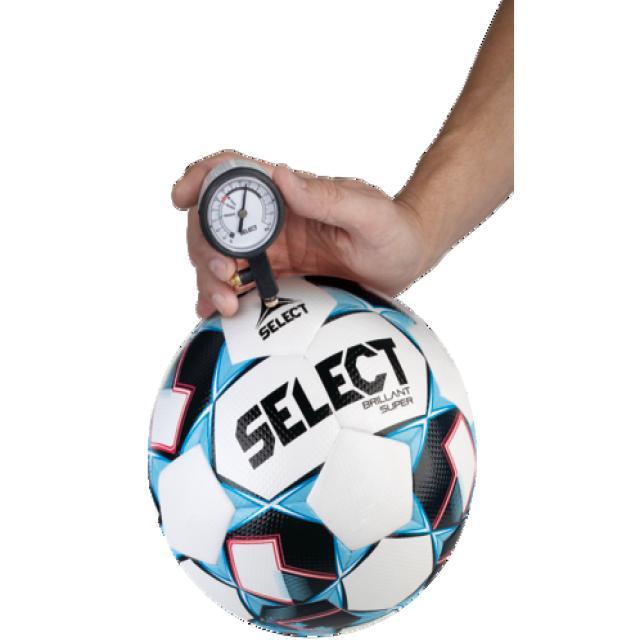soccer ball: (150, 273, 476, 633)
